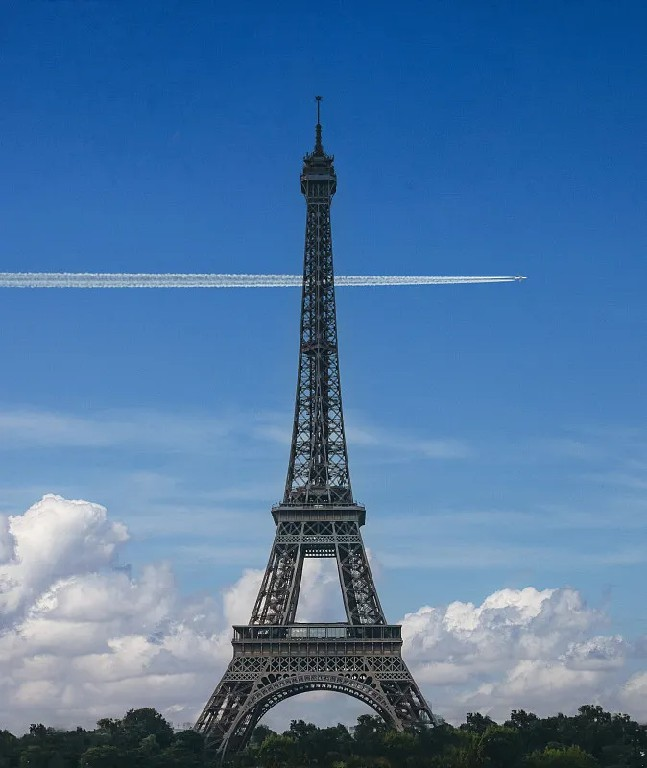Eiffel: (191, 95, 437, 759)
